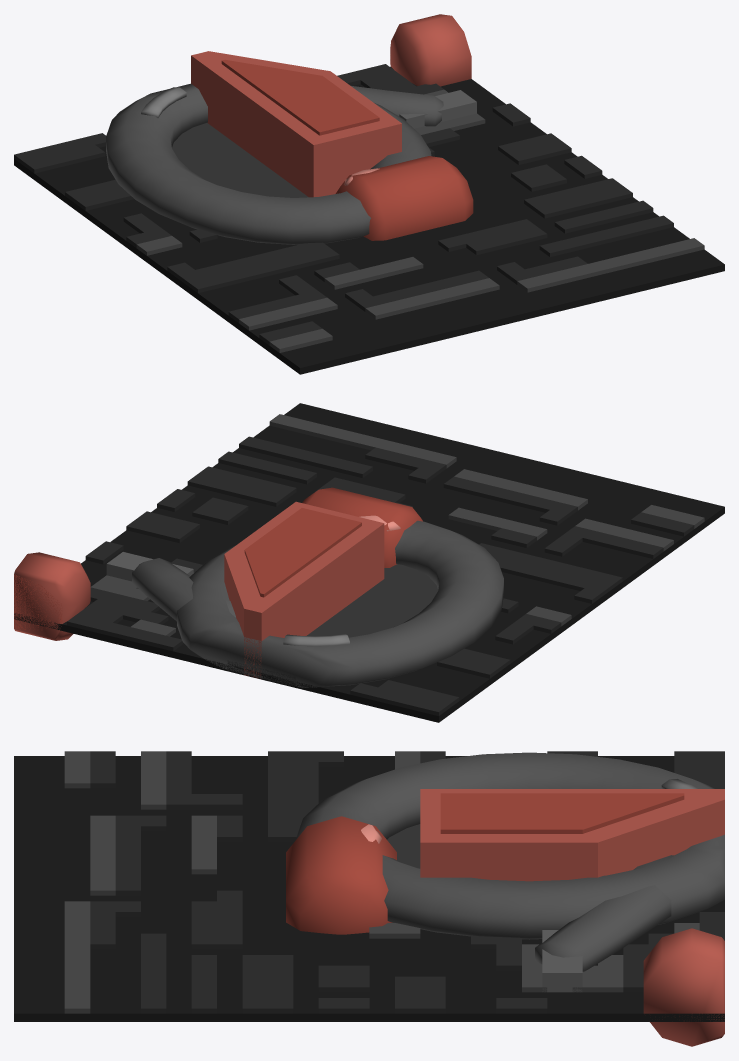
File: newsh-caret-191.glb
3 views of the same model, one above another, from view 1: azimuth 30°, elevation 25°; view 2: azimuth 150°, elevation 25°; view 3: azimuth 270°, elevation 25° (orthographic). The views are drawn at different scales.
Visible parts, largest first — view 1: newsh-caret-191; view 2: newsh-caret-191; view 3: newsh-caret-191.
Part boxes in pixels (x1,y1,x2,y2): newsh-caret-191: [14, 14, 724, 374]; newsh-caret-191: [14, 403, 724, 722]; newsh-caret-191: [14, 751, 724, 1046].
Size of the model in its own units: 2 by 0.455 by 2.33.
